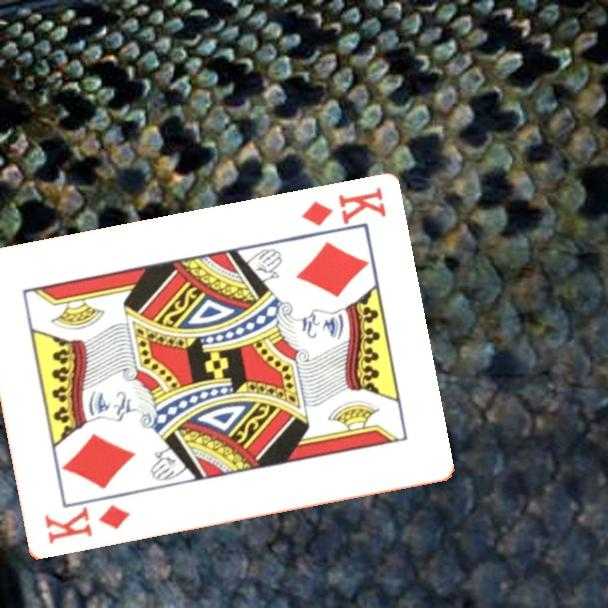d13: (40, 502, 132, 547), (297, 184, 389, 229)
